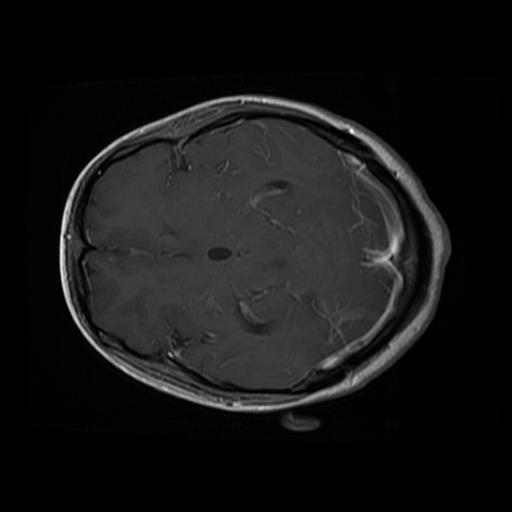glioma: (230, 294, 276, 334)
